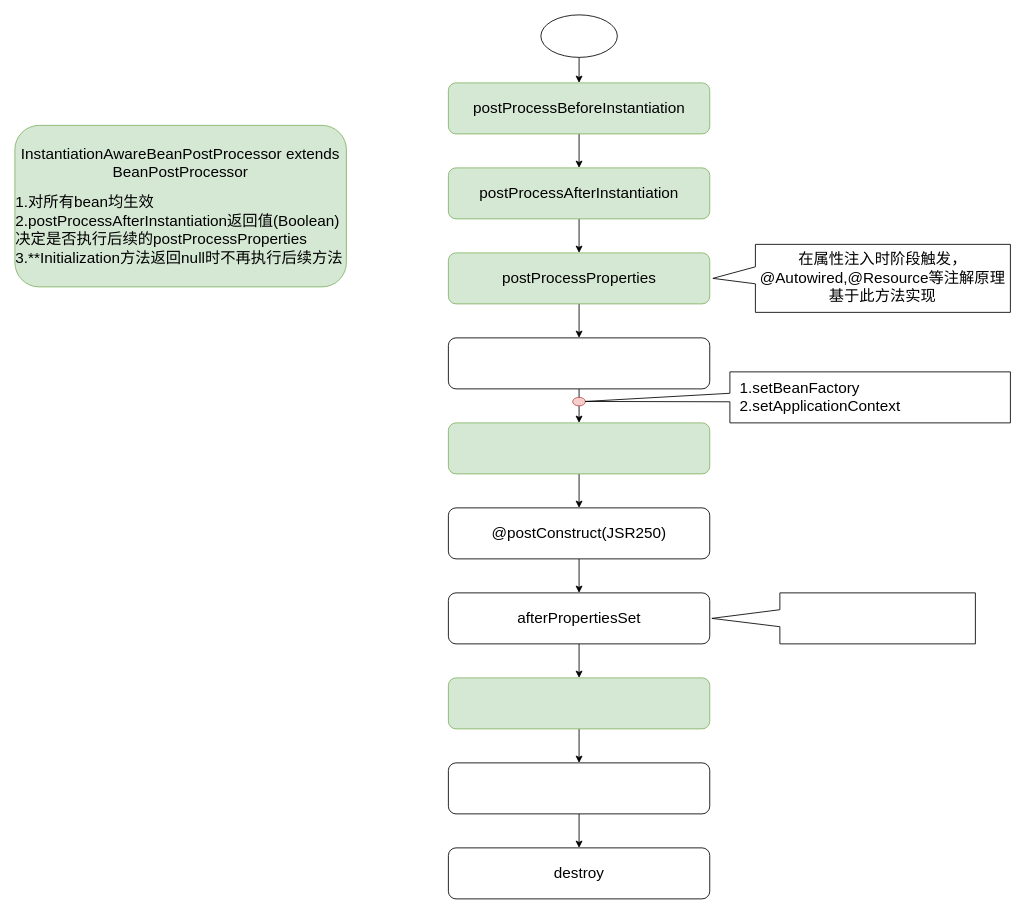
Some shapes in this 1026 by 914 pixel diagram are drawn without their labels. Each missing label, with the centre of its shape:
"@PreDestroy(JSR250)" belongs at point (579, 788).
"BeanNameAware" belongs at point (579, 363).
"postProcessAfterInitialization" belongs at point (579, 703).
"postProcessBeforeInitialization" belongs at point (579, 448).
